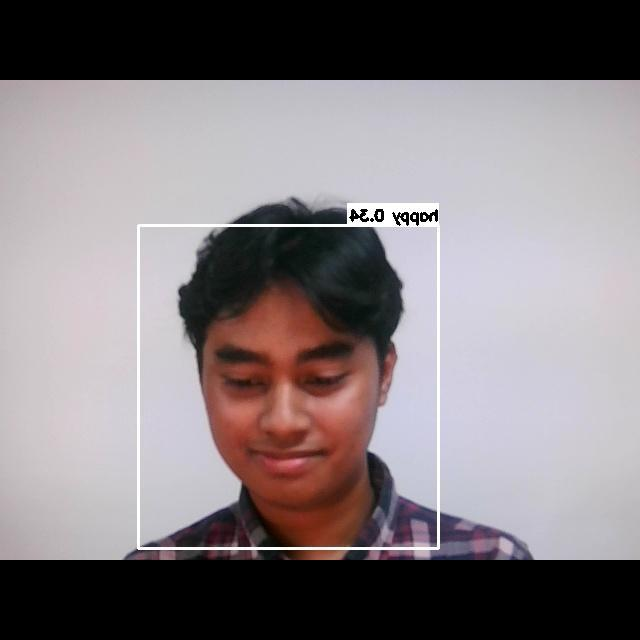Happy: (193, 313, 383, 491)
